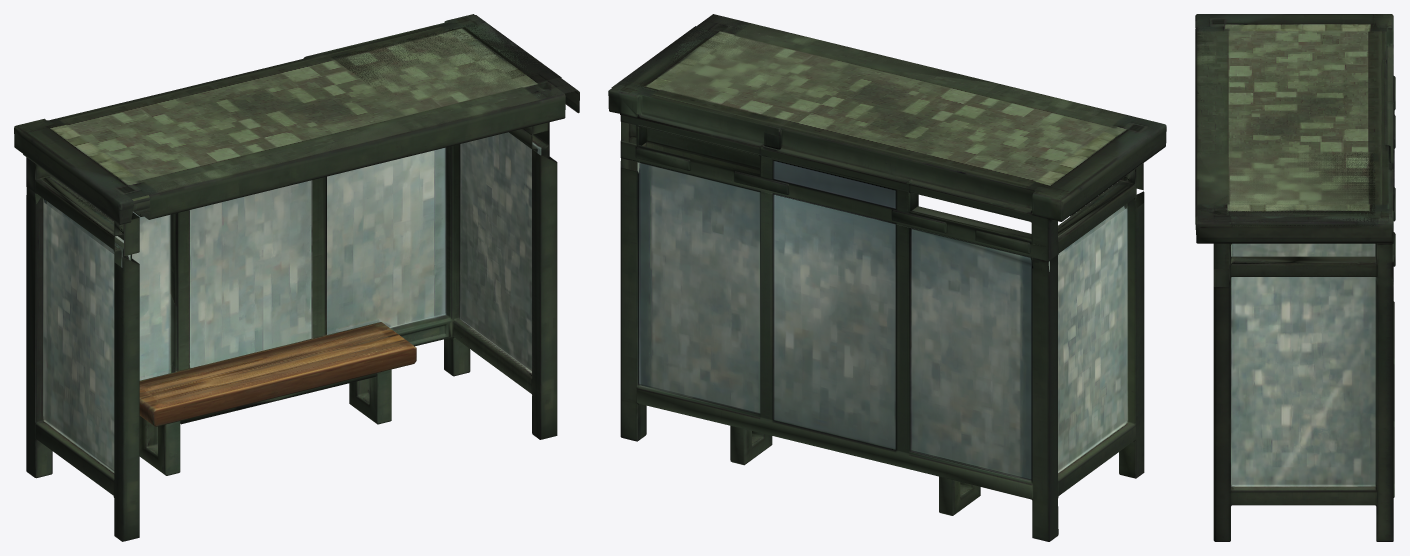
The model's file is PROP_BUSSHELTER.glb.
3 renders of one model, left to right at view 1: azimuth 30°, elevation 25°; view 2: azimuth 150°, elevation 25°; view 3: azimuth 270°, elevation 25°, orthographic. The views are drawn at different scales.
Bounding box in the file's own units: 1.9 × 1.39 × 0.7671.
Materials: 1 (1 with a texture image).
